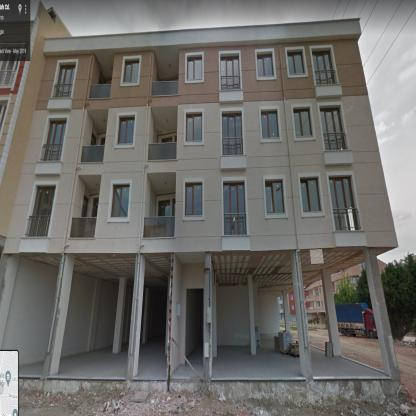door: (82, 198, 87, 216), (91, 135, 96, 145), (173, 199, 175, 215)
window: (330, 177, 358, 229), (29, 187, 55, 235), (224, 183, 246, 235), (320, 108, 344, 148), (222, 114, 242, 154), (44, 122, 65, 160), (313, 51, 334, 83), (221, 56, 240, 89), (56, 66, 74, 97), (266, 181, 284, 212), (112, 185, 129, 217), (301, 180, 319, 210), (186, 183, 202, 215), (261, 112, 278, 138), (294, 109, 311, 135), (0, 62, 18, 86), (118, 117, 134, 143), (186, 115, 202, 141), (258, 53, 274, 76), (123, 61, 139, 83), (288, 53, 304, 73), (188, 58, 202, 80), (158, 200, 170, 216), (0, 104, 6, 128), (92, 198, 98, 217), (162, 137, 172, 143), (101, 137, 105, 145)
